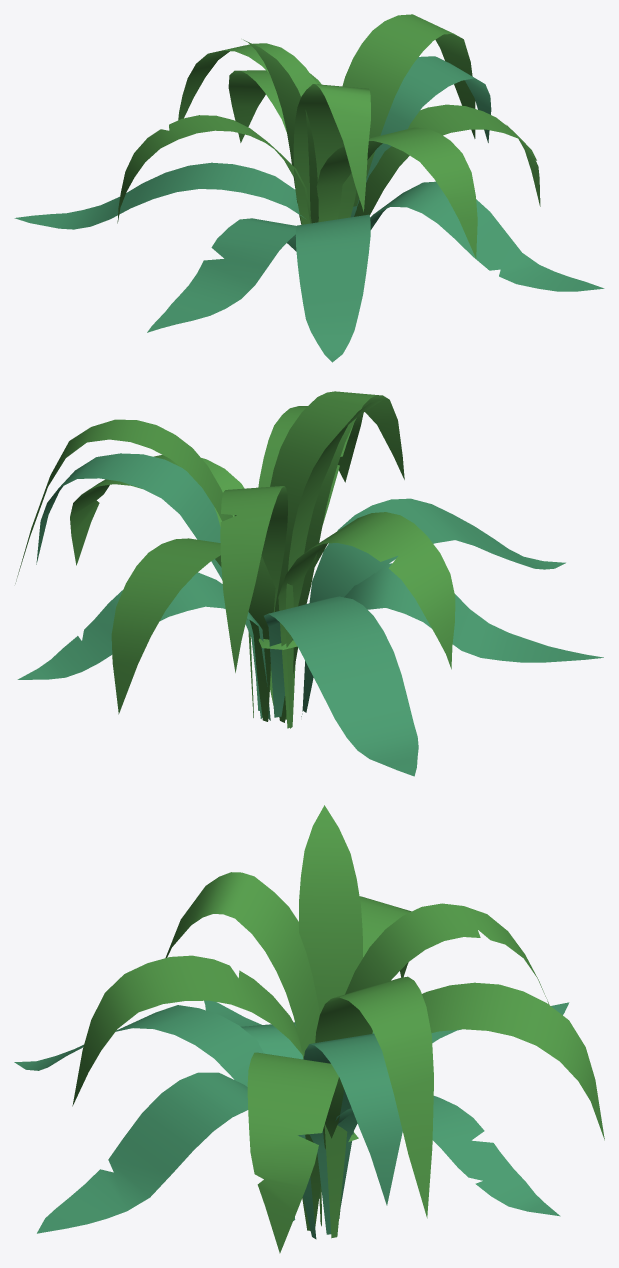
The model's file is plant_dracaena_E.fbx.
3 renders of one model, top to bottom at view 1: azimuth 30°, elevation 25°; view 2: azimuth 150°, elevation 25°; view 3: azimuth 270°, elevation 25°, orthographic. The views are drawn at different scales.
Visible parts, largest first — view 1: plant_dracaena_E_leaf_H, plant_dracaena_E_leaf_C, plant_dracaena_E_leaf_D, plant_dracaena_E_leaf_J, plant_dracaena_E_leaf_F, plant_dracaena_E_leaf_N, plant_dracaena_E_leaf_I, plant_dracaena_E_leaf_L, plant_dracaena_E_leaf_K, plant_dracaena_E_leaf_B, plant_dracaena_E_leaf_O, plant_dracaena_E_leaf_A (+1 smaller); view 2: plant_dracaena_E_leaf_I, plant_dracaena_E_leaf_G, plant_dracaena_E_leaf_C, plant_dracaena_E_leaf_B, plant_dracaena_E_leaf_A, plant_dracaena_E_leaf_H, plant_dracaena_E_leaf_L, plant_dracaena_E_leaf_J, plant_dracaena_E_leaf_M, plant_dracaena_E_leaf_D, plant_dracaena_E_leaf_O, plant_dracaena_E_leaf_K (+1 smaller); view 3: plant_dracaena_E_leaf_N, plant_dracaena_E_leaf_D, plant_dracaena_E_leaf_K, plant_dracaena_E_leaf_F, plant_dracaena_E_leaf_O, plant_dracaena_E_leaf_C, plant_dracaena_E_leaf_G, plant_dracaena_E_leaf_L, plant_dracaena_E_leaf_A, plant_dracaena_E_leaf_M, plant_dracaena_E_leaf_H, plant_dracaena_E_leaf_J (+1 smaller).
Boxes of the visible parts, box(x1,y1,x2,y2) form: plant_dracaena_E_leaf_H: box(295, 214, 370, 362); plant_dracaena_E_leaf_C: box(293, 84, 370, 224); plant_dracaena_E_leaf_D: box(342, 14, 475, 206); plant_dracaena_E_leaf_J: box(147, 218, 296, 332); plant_dracaena_E_leaf_F: box(316, 127, 477, 258); plant_dracaena_E_leaf_N: box(370, 181, 604, 291); plant_dracaena_E_leaf_I: box(14, 162, 305, 229); plant_dracaena_E_leaf_L: box(350, 56, 491, 217); plant_dracaena_E_leaf_K: box(354, 104, 540, 216); plant_dracaena_E_leaf_B: box(117, 115, 311, 223); plant_dracaena_E_leaf_O: box(243, 39, 318, 224); plant_dracaena_E_leaf_A: box(178, 43, 316, 119); plant_dracaena_E_leaf_I: box(264, 596, 418, 776); plant_dracaena_E_leaf_G: box(111, 538, 275, 721); plant_dracaena_E_leaf_C: box(270, 391, 404, 722); plant_dracaena_E_leaf_B: box(278, 512, 455, 728); plant_dracaena_E_leaf_A: box(220, 486, 287, 702); plant_dracaena_E_leaf_H: box(302, 498, 565, 712); plant_dracaena_E_leaf_L: box(36, 453, 262, 718); plant_dracaena_E_leaf_J: box(301, 563, 603, 716); plant_dracaena_E_leaf_M: box(17, 572, 270, 720); plant_dracaena_E_leaf_D: box(15, 419, 253, 717); plant_dracaena_E_leaf_O: box(285, 400, 381, 728); plant_dracaena_E_leaf_K: box(70, 455, 273, 705); plant_dracaena_E_leaf_N: box(37, 1072, 316, 1239); plant_dracaena_E_leaf_D: box(315, 976, 433, 1238); plant_dracaena_E_leaf_K: box(247, 1052, 343, 1253); plant_dracaena_E_leaf_F: box(72, 955, 321, 1226); plant_dracaena_E_leaf_O: box(299, 805, 363, 1013); plant_dracaena_E_leaf_C: box(165, 872, 319, 1058); plant_dracaena_E_leaf_G: box(422, 982, 604, 1140); plant_dracaena_E_leaf_L: box(303, 1033, 402, 1234); plant_dracaena_E_leaf_A: box(345, 903, 549, 1004); plant_dracaena_E_leaf_M: box(335, 1096, 560, 1216); plant_dracaena_E_leaf_H: box(14, 1005, 295, 1220); plant_dracaena_E_leaf_J: box(204, 1000, 303, 1059).
Bounding box in the file's own units: 114 × 76.59 × 111.
